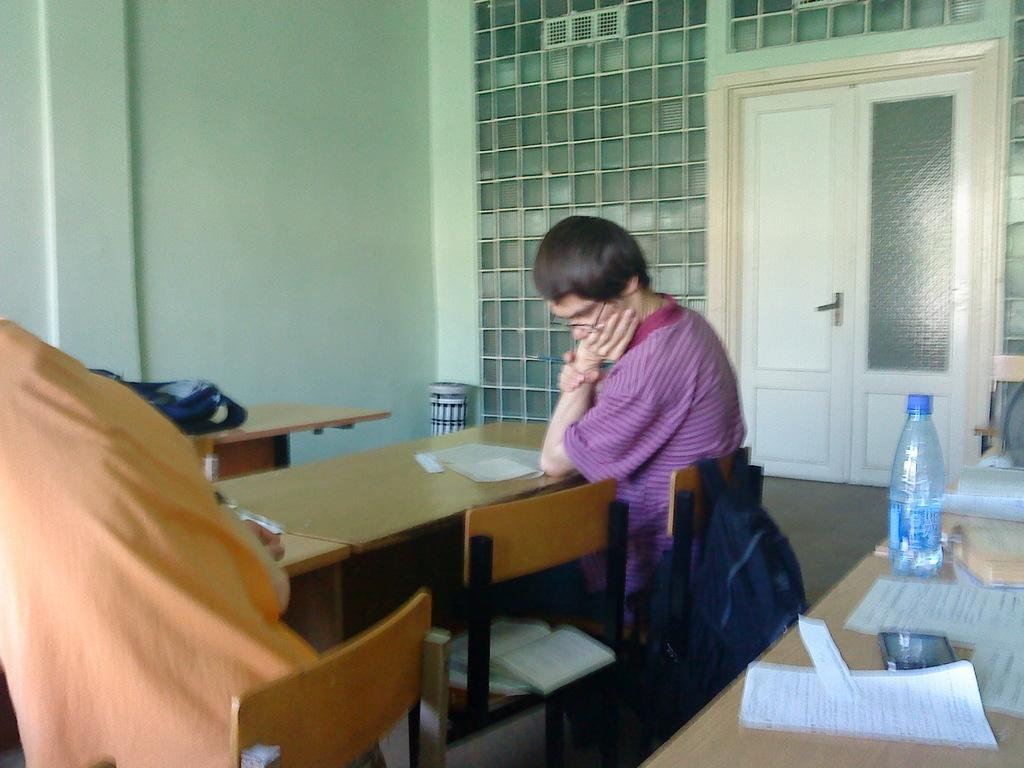Chair: (425, 476, 629, 767)
